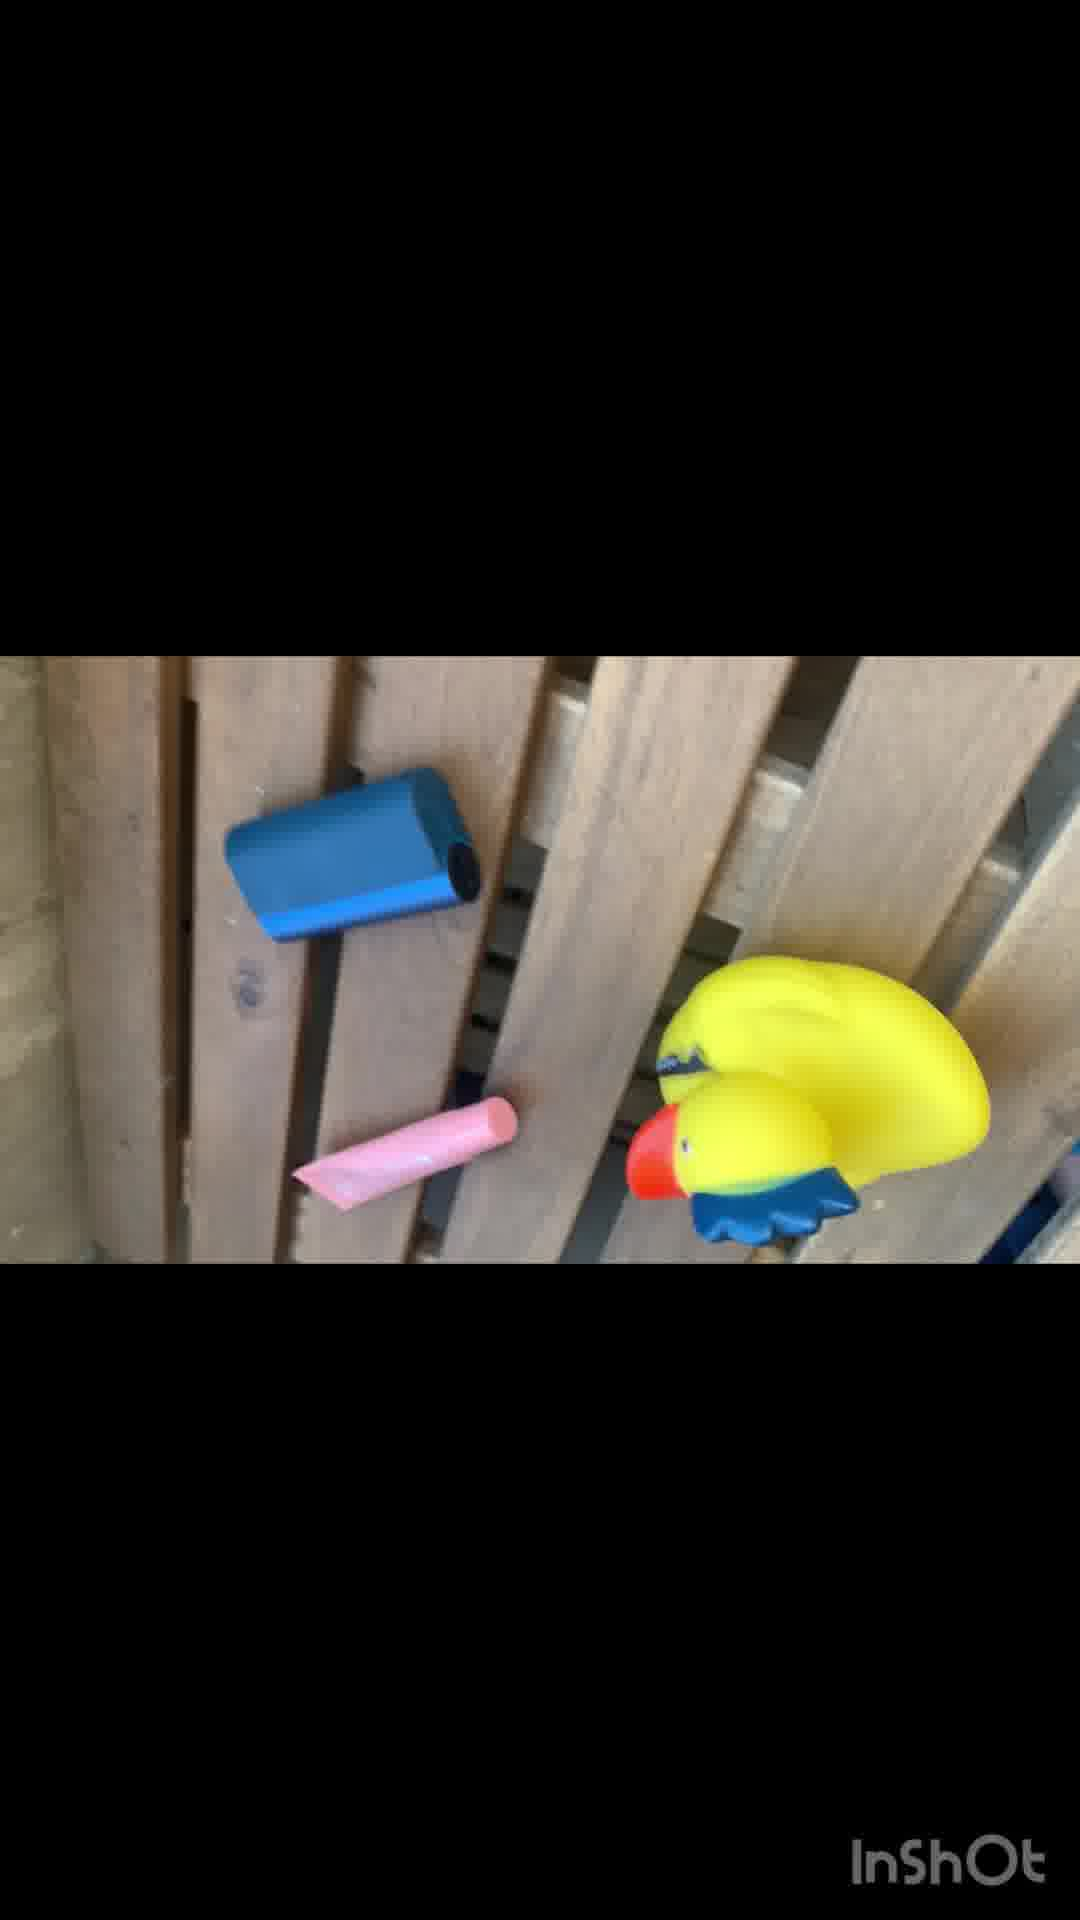duck: (626, 957, 972, 1234)
glo: (228, 760, 492, 957)
lip balm: (291, 1098, 521, 1213)
